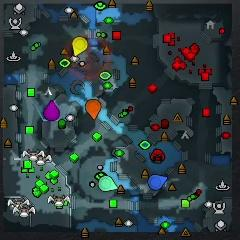p1: (148, 174, 167, 190)
p2: (99, 176, 118, 191)
p3: (43, 100, 59, 120)
p4: (73, 36, 88, 55)
p5: (85, 99, 101, 118)
